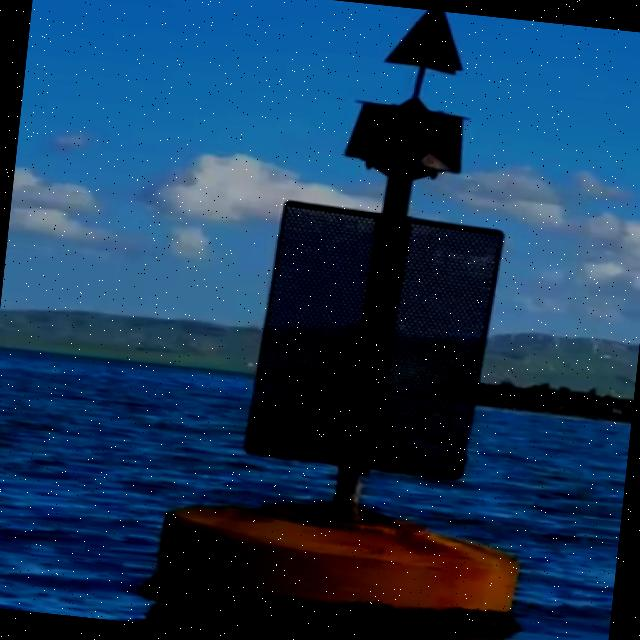marque: (150, 1, 580, 640)
